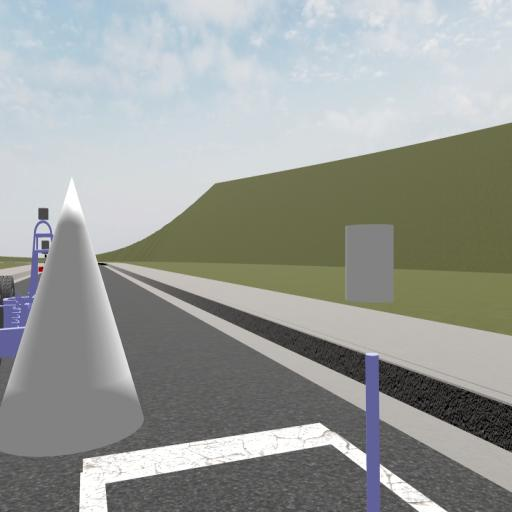ERP-42: (1, 214, 53, 376)
